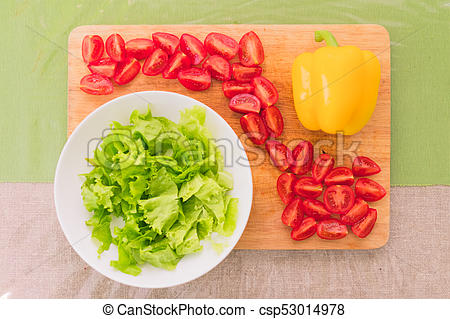chopped lettuce: (97, 139, 207, 243)
